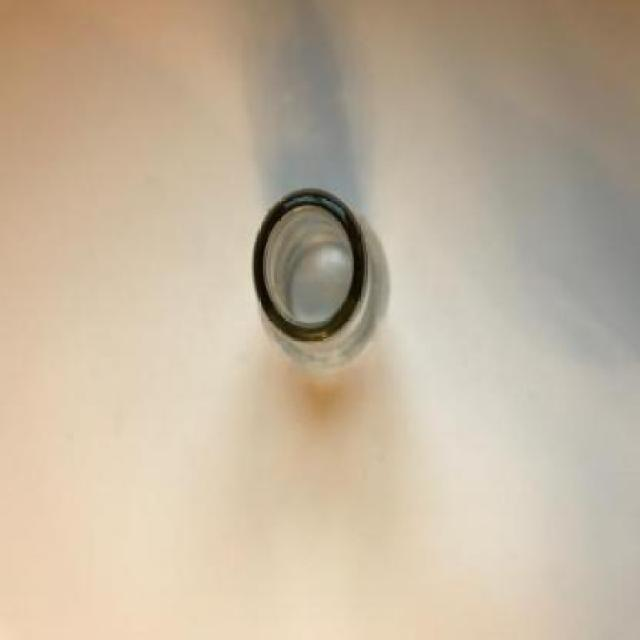trash: (252, 187, 392, 382)
